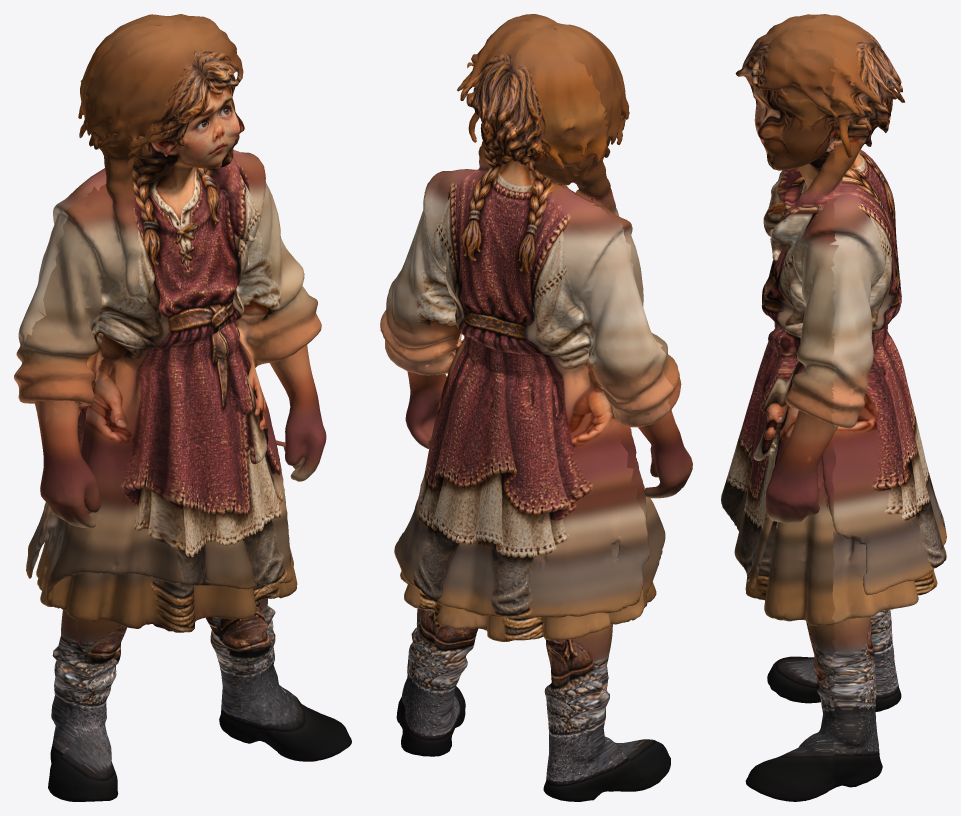
The model's file is menina_cabelos_castanhos.glb.
3 renders of one model, left to right at view 1: azimuth 30°, elevation 25°; view 2: azimuth 150°, elevation 25°; view 3: azimuth 270°, elevation 25°, orthographic. The views are drawn at different scales.
Parts seen in each view (by area): view 1: tmp0ho4d_k2.ply; view 2: tmp0ho4d_k2.ply; view 3: tmp0ho4d_k2.ply.
Boxes of the visible parts, bbox=[...] form: tmp0ho4d_k2.ply: bbox=[14, 14, 351, 801]; tmp0ho4d_k2.ply: bbox=[380, 14, 692, 801]; tmp0ho4d_k2.ply: bbox=[721, 14, 946, 801].
Size of the model in its own units: 0.8257 by 1.96 by 0.565.
Materials: 2 (2 with a texture image).
